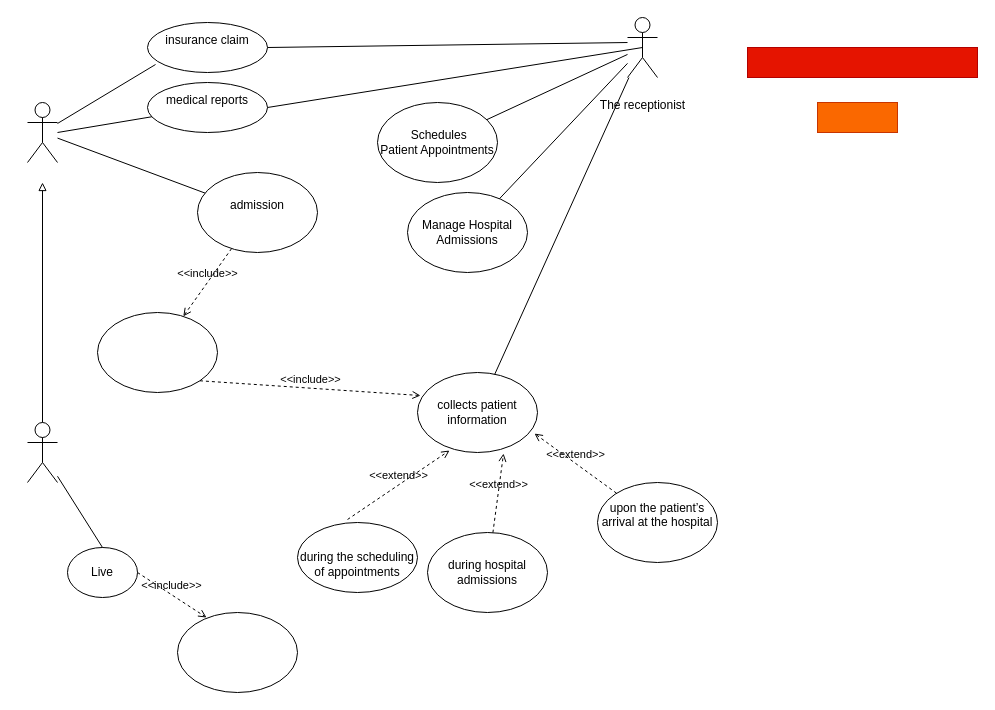
Some shapes in this 995 by 710 pixel diagram are drawn without their labels. The box of each missing label's shape, as (x1, y1, x2, y2) in pixels:
a bed must be assigned in a ward: (176, 612, 298, 692)
Exercice 3: (816, 102, 898, 132)
Hospital Reception System: (746, 46, 978, 78)
inpatients: (26, 422, 58, 482)
Patient: (26, 102, 58, 162)
patient registration: (96, 312, 218, 392)
